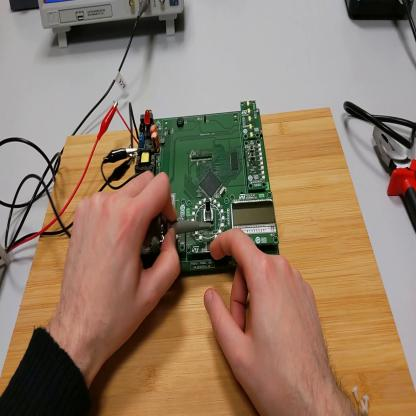hand: (204, 230, 334, 416), (57, 170, 180, 356)
low voltage board: (116, 100, 280, 276)
oscilloscope: (40, 2, 184, 49)
oscilloscope probe tip: (145, 214, 210, 240)
pliers: (373, 123, 416, 230)
socket: (10, 1, 39, 15)
welder station: (347, 2, 416, 25)
working area: (2, 107, 416, 415)
